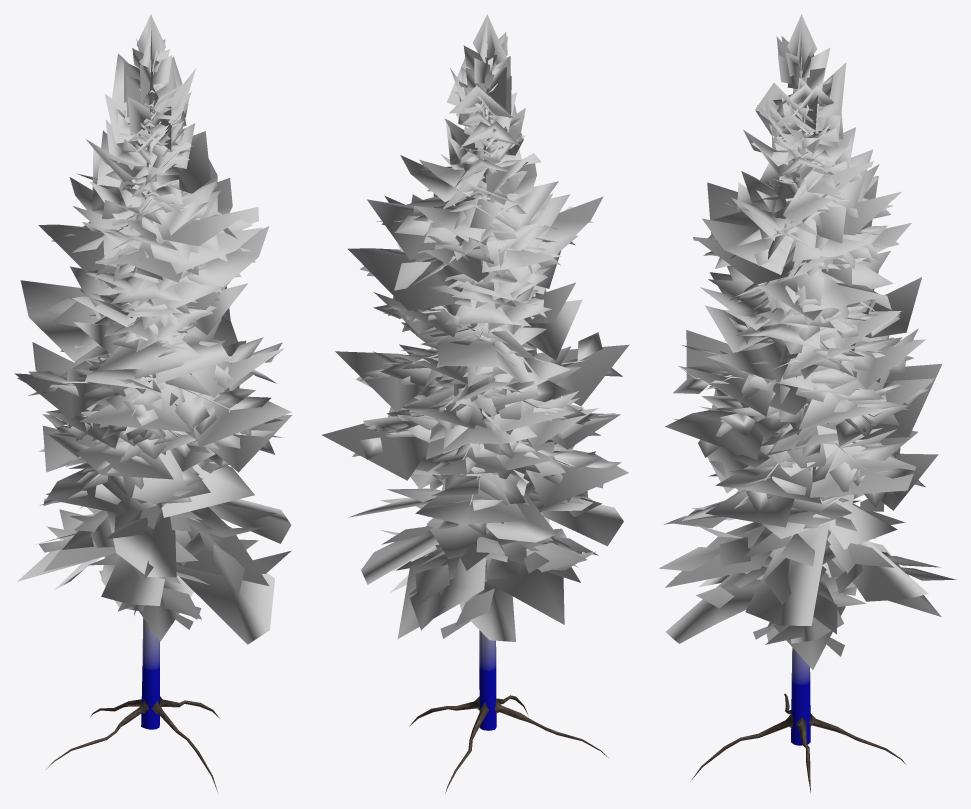
Rendered from Tree1_LOD2.fbx.
3 views of the same model, side by side, from view 1: azimuth 30°, elevation 25°; view 2: azimuth 150°, elevation 25°; view 3: azimuth 270°, elevation 25° (orthographic). The views are drawn at different scales.
Visible parts, largest first — view 1: polySurface167; view 2: polySurface167; view 3: polySurface167.
Part boxes in pixels (x1,y1,x2,y2): polySurface167: (14,14,292,792); polySurface167: (322,14,629,792); polySurface167: (659,14,956,792).
Bounding box in the file's own units: 716 × 1971 × 700.
